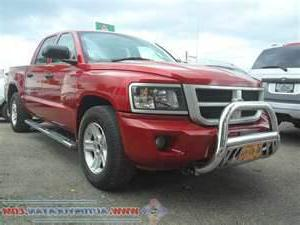Car: (1, 19, 284, 192)
